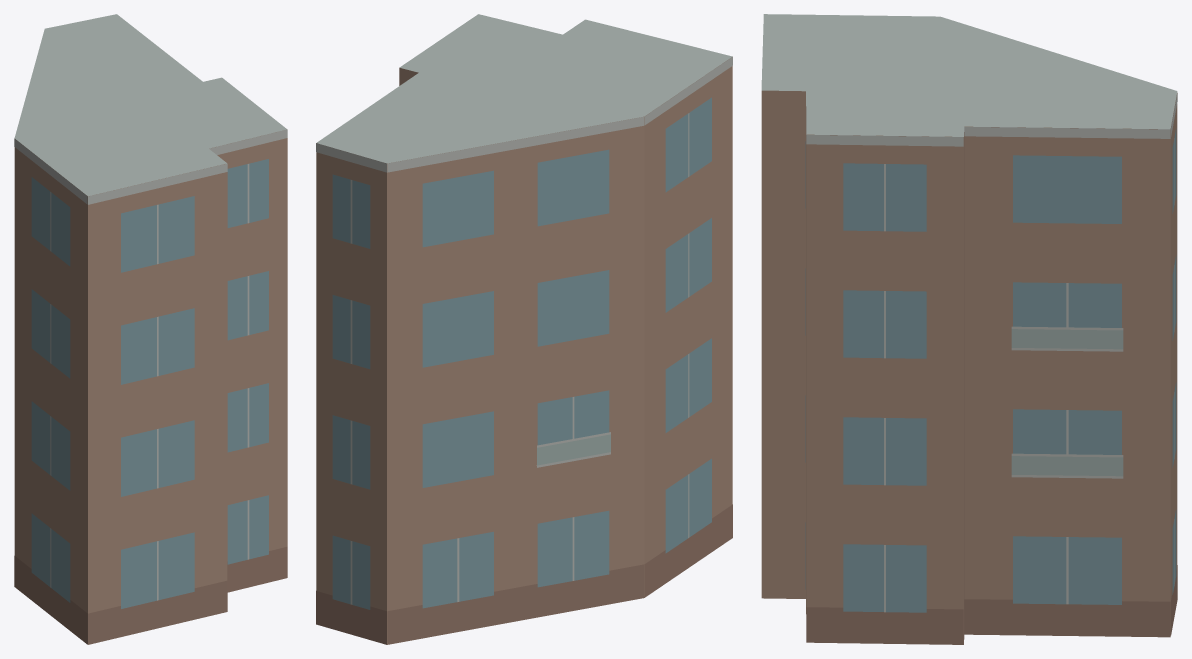
The model's file is survey-upis-32870835.glb.
3 views of the same model, side by side, from view 1: azimuth 30°, elevation 25°; view 2: azimuth 150°, elevation 25°; view 3: azimuth 270°, elevation 25° (orthographic). The views are drawn at different scales.
Parts seen in each view (by area): view 1: survey-upis-32870835.tmp; view 2: survey-upis-32870835.tmp; view 3: survey-upis-32870835.tmp.
Part boxes in pixels (bbox=[...]): survey-upis-32870835.tmp: bbox=[14, 14, 287, 644]; survey-upis-32870835.tmp: bbox=[316, 14, 732, 644]; survey-upis-32870835.tmp: bbox=[761, 14, 1177, 644].
Bounding box in the file's own units: 6.65 × 12.8 × 9.51.
